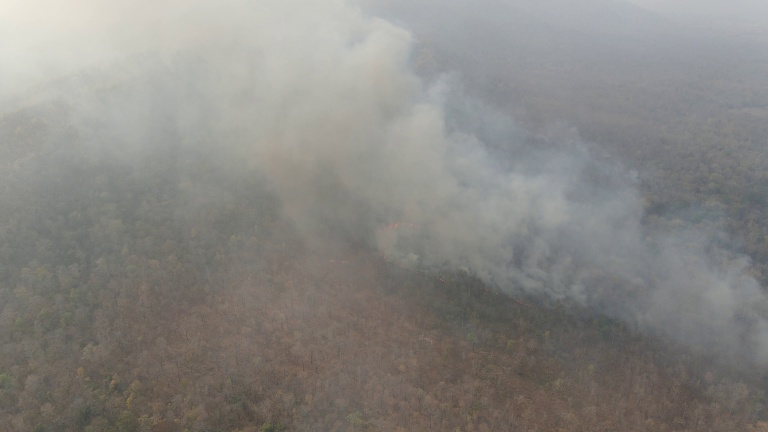fire: (480, 282, 536, 308), (420, 267, 449, 284), (385, 217, 419, 229)
smoke: (170, 2, 526, 296), (503, 145, 768, 355)
